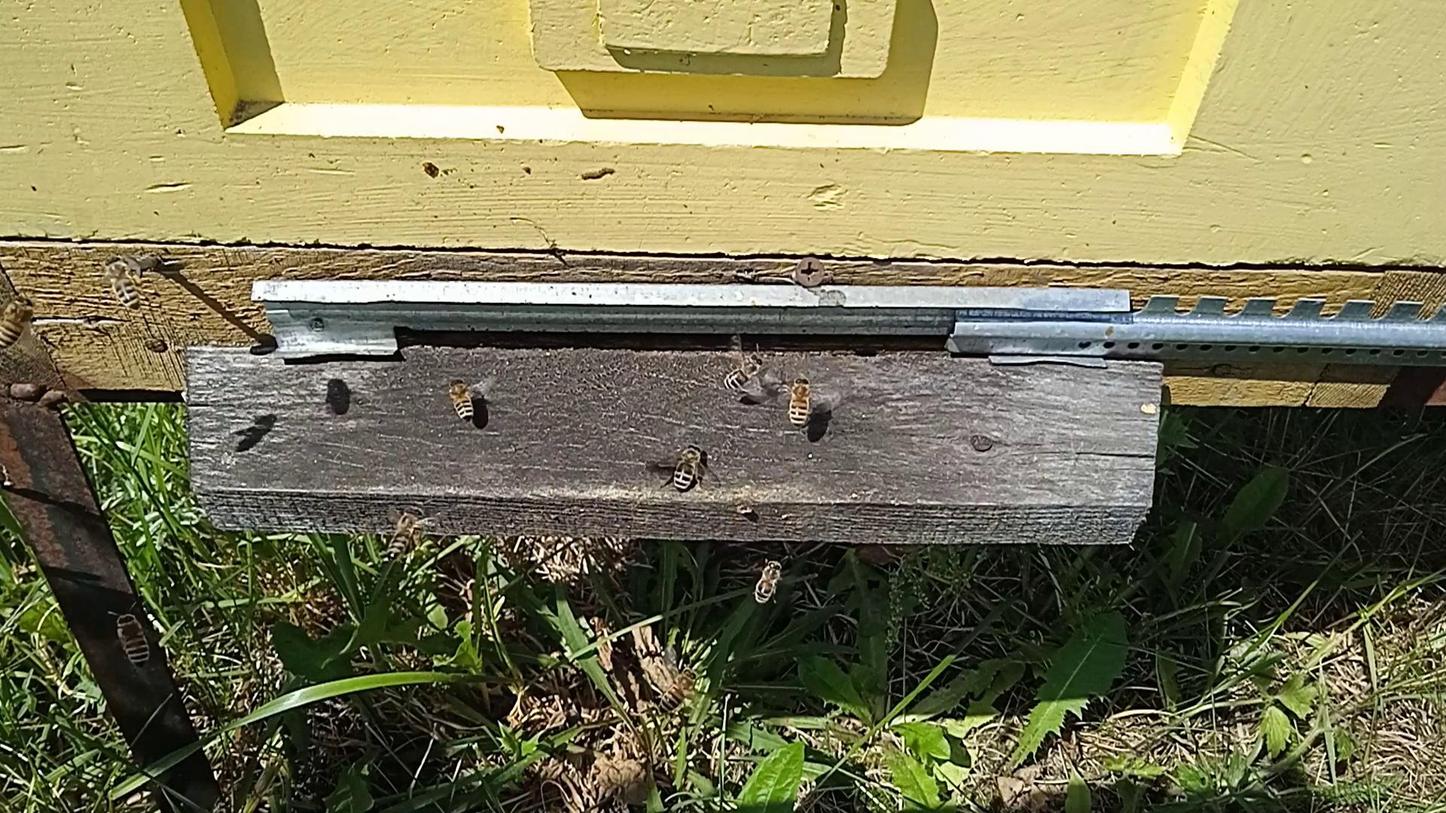worker-bee: (114, 611, 154, 668), (387, 505, 427, 558), (104, 256, 141, 307), (0, 295, 33, 348), (659, 668, 697, 713), (672, 442, 706, 491), (723, 353, 767, 390), (753, 558, 785, 605), (786, 376, 813, 428), (447, 378, 476, 421), (725, 331, 745, 356)
